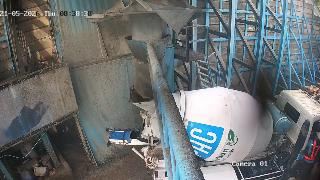cement_mixer_truck: (129, 83, 320, 180)
swing_chute: (124, 35, 170, 100)
